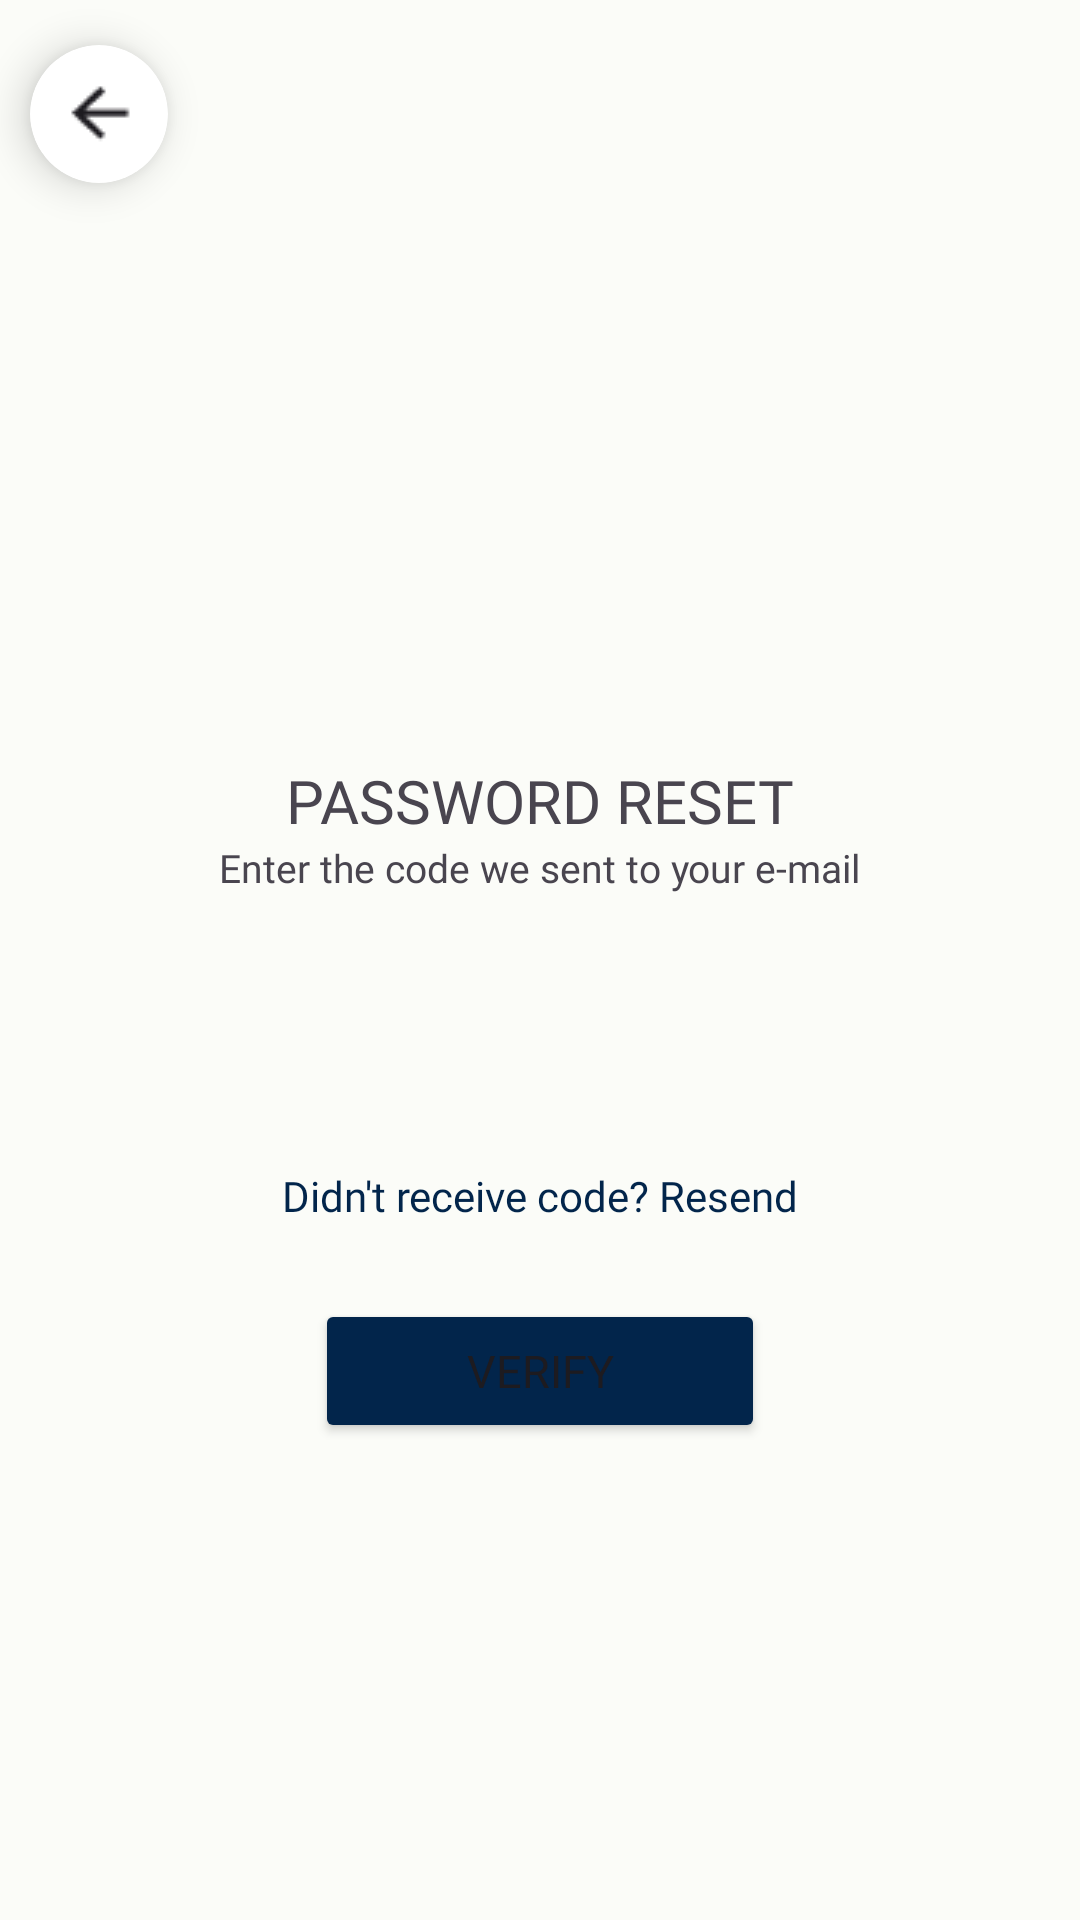

Locate icon controls on the screen. Image size 1080px×1920px, boxes as (x1, y1, x2, y2).
back product screen: (30, 45, 168, 183)
